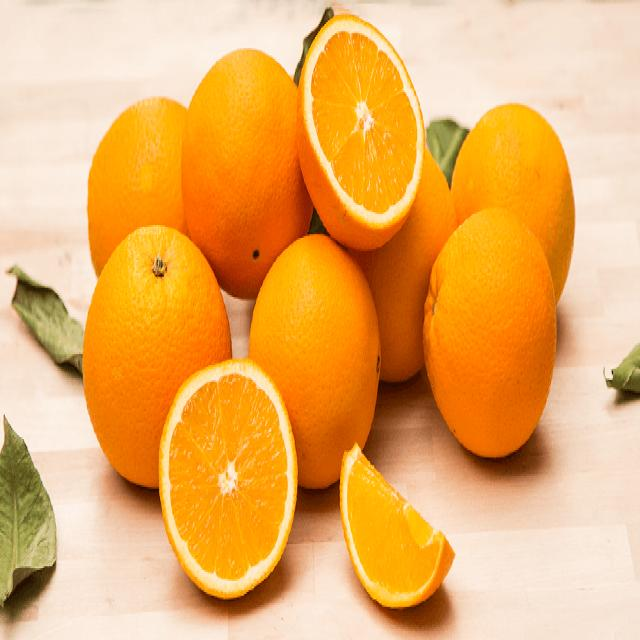orange: (81, 222, 239, 490), (426, 205, 570, 468), (179, 52, 320, 304), (339, 117, 462, 397), (246, 231, 380, 487), (158, 366, 298, 606), (286, 19, 426, 242), (444, 108, 589, 311), (336, 440, 456, 620), (86, 95, 206, 275)
